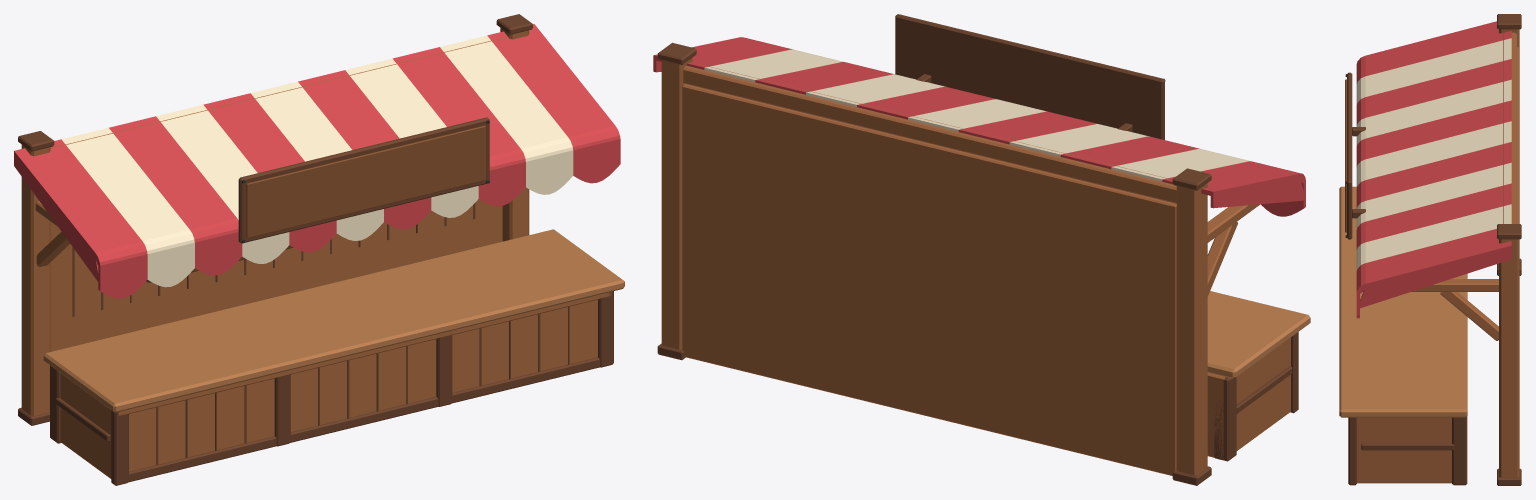
File: Lodge_UpgradesStall.fbx
3 views of the same model, side by side, from view 1: azimuth 30°, elevation 25°; view 2: azimuth 150°, elevation 25°; view 3: azimuth 270°, elevation 25° (orthographic). The views are drawn at different scales.
Parts seen in each view (by area): view 1: FnWood, AwningA, Countertop, AwningB, SignFace, FnWoodDark, Posts, SignFrame, Seams; view 2: FnWood, Posts, SignFrame, AwningA, AwningB, Countertop, FnWoodDark; view 3: AwningA, Countertop, AwningB, Posts, FnWood, FnWoodDark, SignFrame, SignFace.
Boxes of the visible parts, x1,y1,x2,y2 form: FnWood: (50,199,611,478); AwningA: (14,24,620,298); Countertop: (43,229,624,412); AwningB: (62,35,573,287); SignFace: (246,125,485,238); FnWoodDark: (18,14,613,485); Posts: (21,28,529,416); SignFrame: (146,117,489,282); Seams: (72,203,569,465); FnWood: (682,84,1290,475); Posts: (661,57,1259,475); SignFrame: (895,14,1164,139); AwningA: (653,37,1305,216); AwningB: (704,49,1250,181); Countertop: (1207,291,1310,378); FnWoodDark: (657,42,1298,485); AwningA: (1356,21,1511,318); Countertop: (1339,186,1467,417); AwningB: (1356,38,1511,270); Posts: (1363,29,1519,477); FnWood: (1357,47,1518,483); FnWoodDark: (1348,14,1521,485); SignFrame: (1347,72,1352,239); SignFace: (1345,79,1346,232).
Size of the model in its own units: 25 by 12.9 by 8.45.
